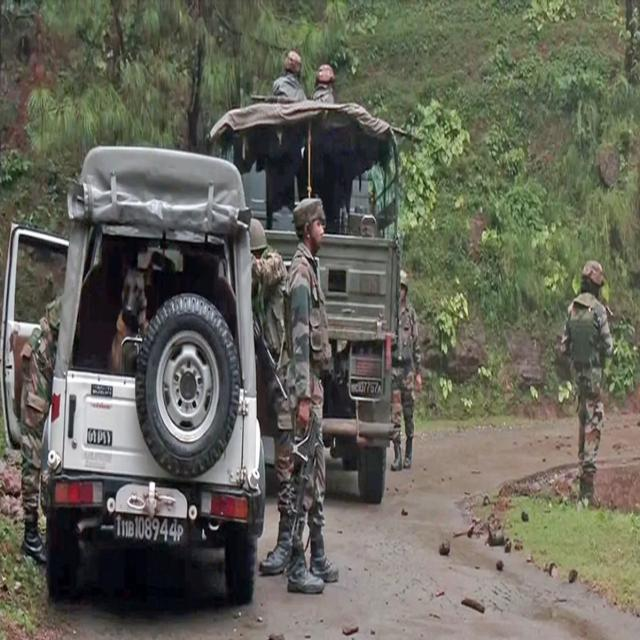military-plate: (112, 511, 186, 543), (350, 380, 382, 398)
